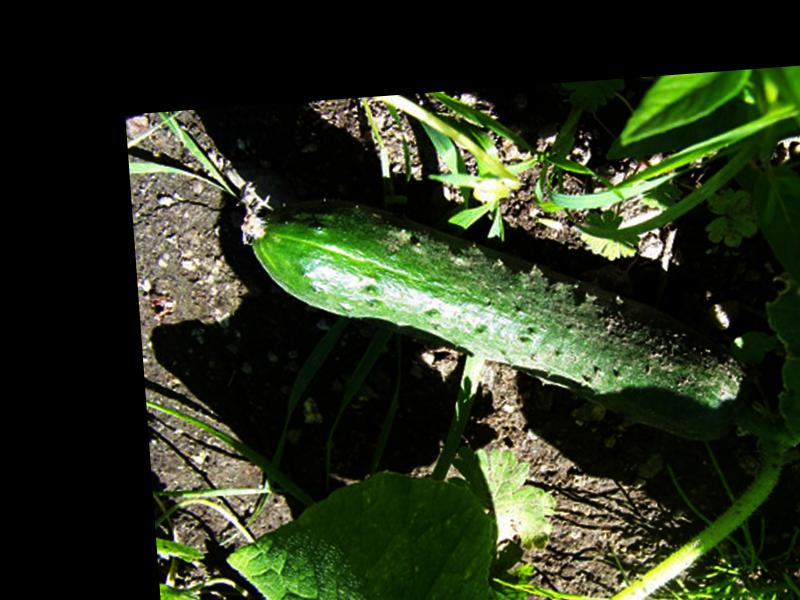Cucumber: (241, 167, 757, 475)
